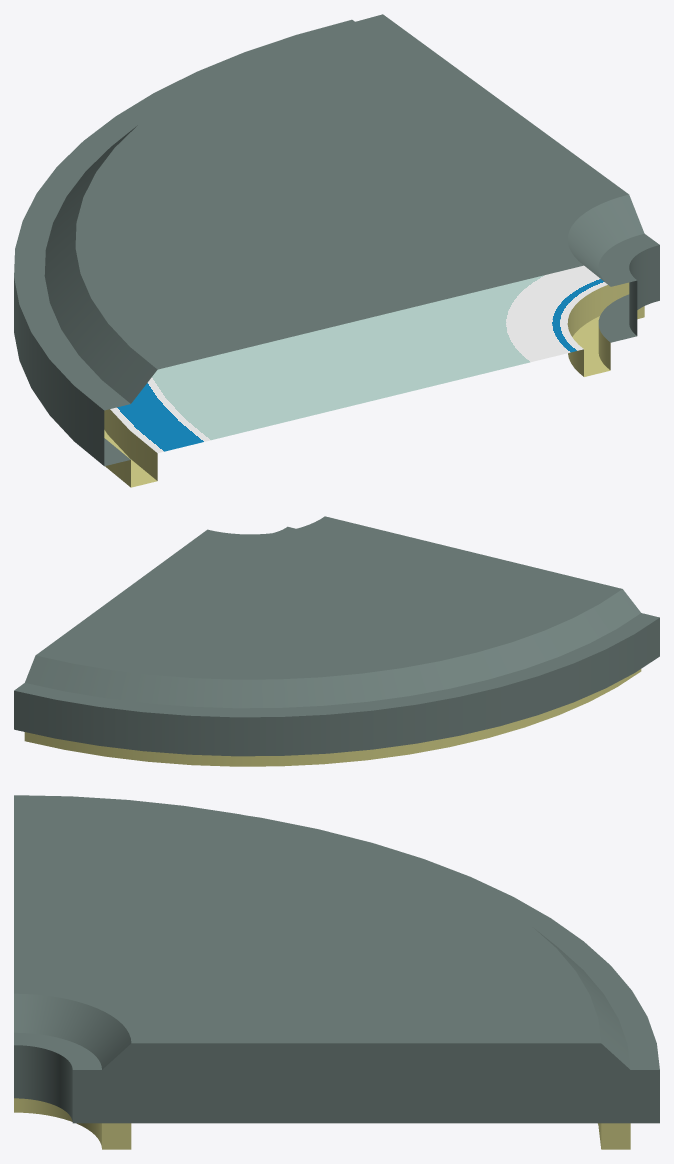
The model's file is T0_Curve_R6_D90_Cap.obj.
3 renders of one model, top to bottom at view 1: azimuth 30°, elevation 25°; view 2: azimuth 150°, elevation 25°; view 3: azimuth 270°, elevation 25°, orthographic. The views are drawn at different scales.
Parts seen in each view (by area): view 1: T0_Curve_R6_D90_Cap; view 2: T0_Curve_R6_D90_Cap; view 3: T0_Curve_R6_D90_Cap.
Boxes of the visible parts, x1,y1,x2,y2 form: T0_Curve_R6_D90_Cap: (14,14,659,487); T0_Curve_R6_D90_Cap: (14,516,659,766); T0_Curve_R6_D90_Cap: (14,795,659,1149).
Bounding box in the file's own units: 11 × 2 × 11.
